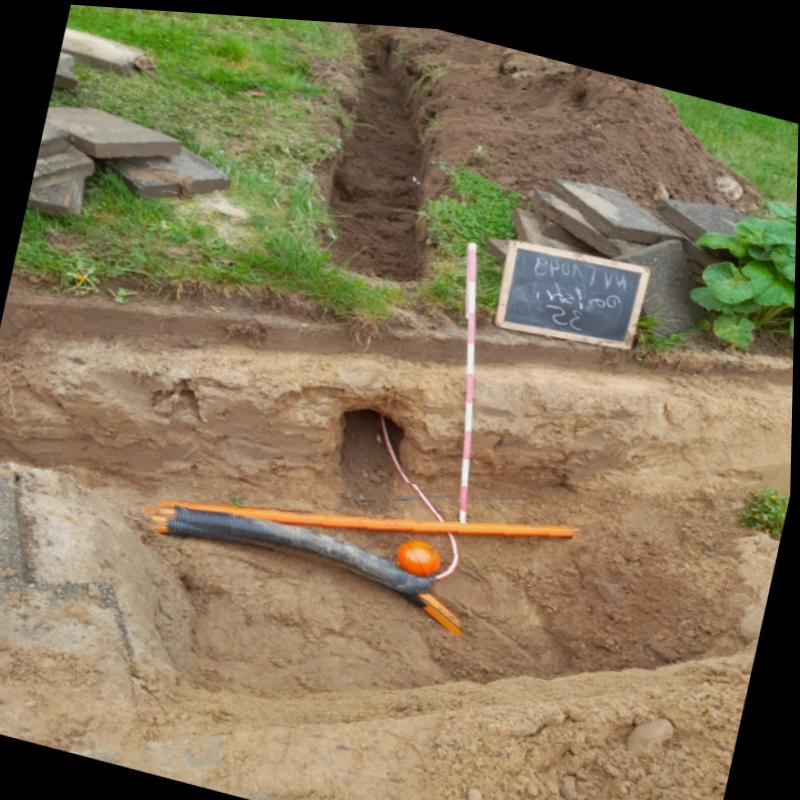Kugelmarker: (397, 536, 435, 569)
Orang-Speednetrohrchen: (156, 498, 575, 529), (411, 572, 474, 633)
